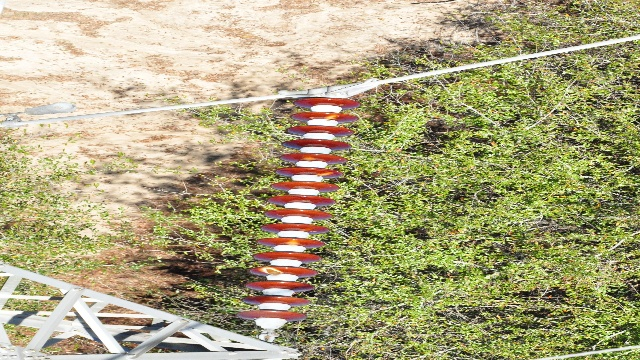insulator_unspecified: (237, 96, 359, 320)
pollution_flashover_local: (259, 266, 285, 276), (298, 153, 317, 163), (318, 172, 335, 178), (325, 114, 339, 121), (286, 240, 298, 246)
